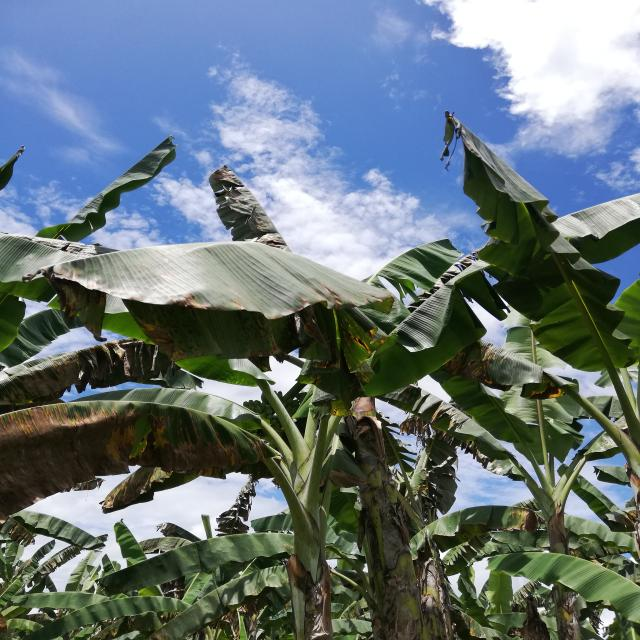Banana-plant: (349, 364, 438, 640), (263, 428, 342, 640), (520, 455, 596, 640)
